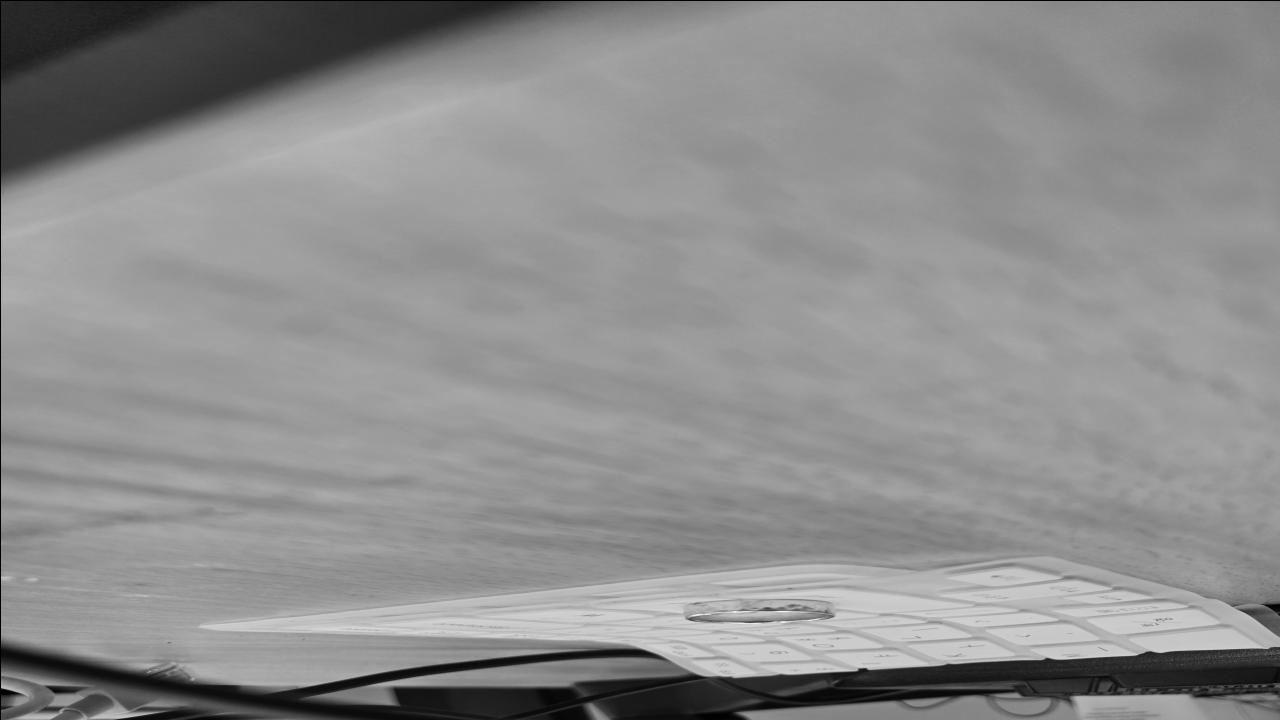ring: (680, 597, 834, 625)
